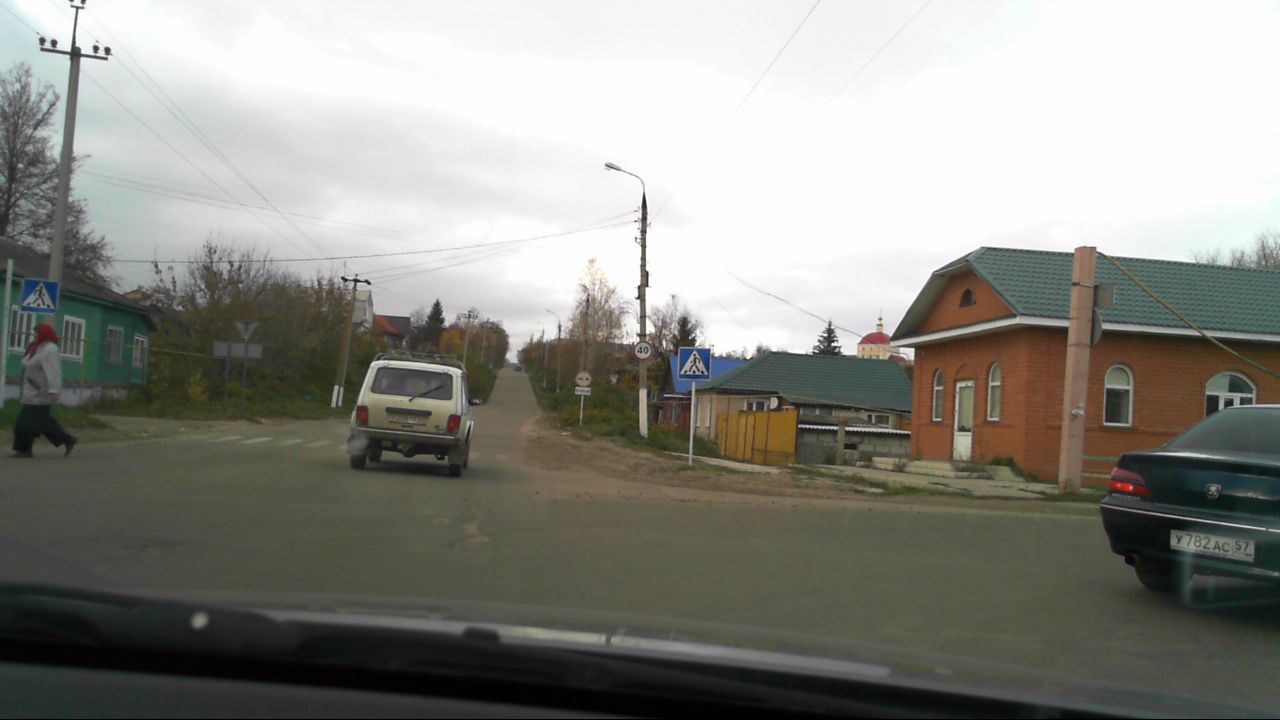speed_warning_40: (631, 339, 652, 361)
